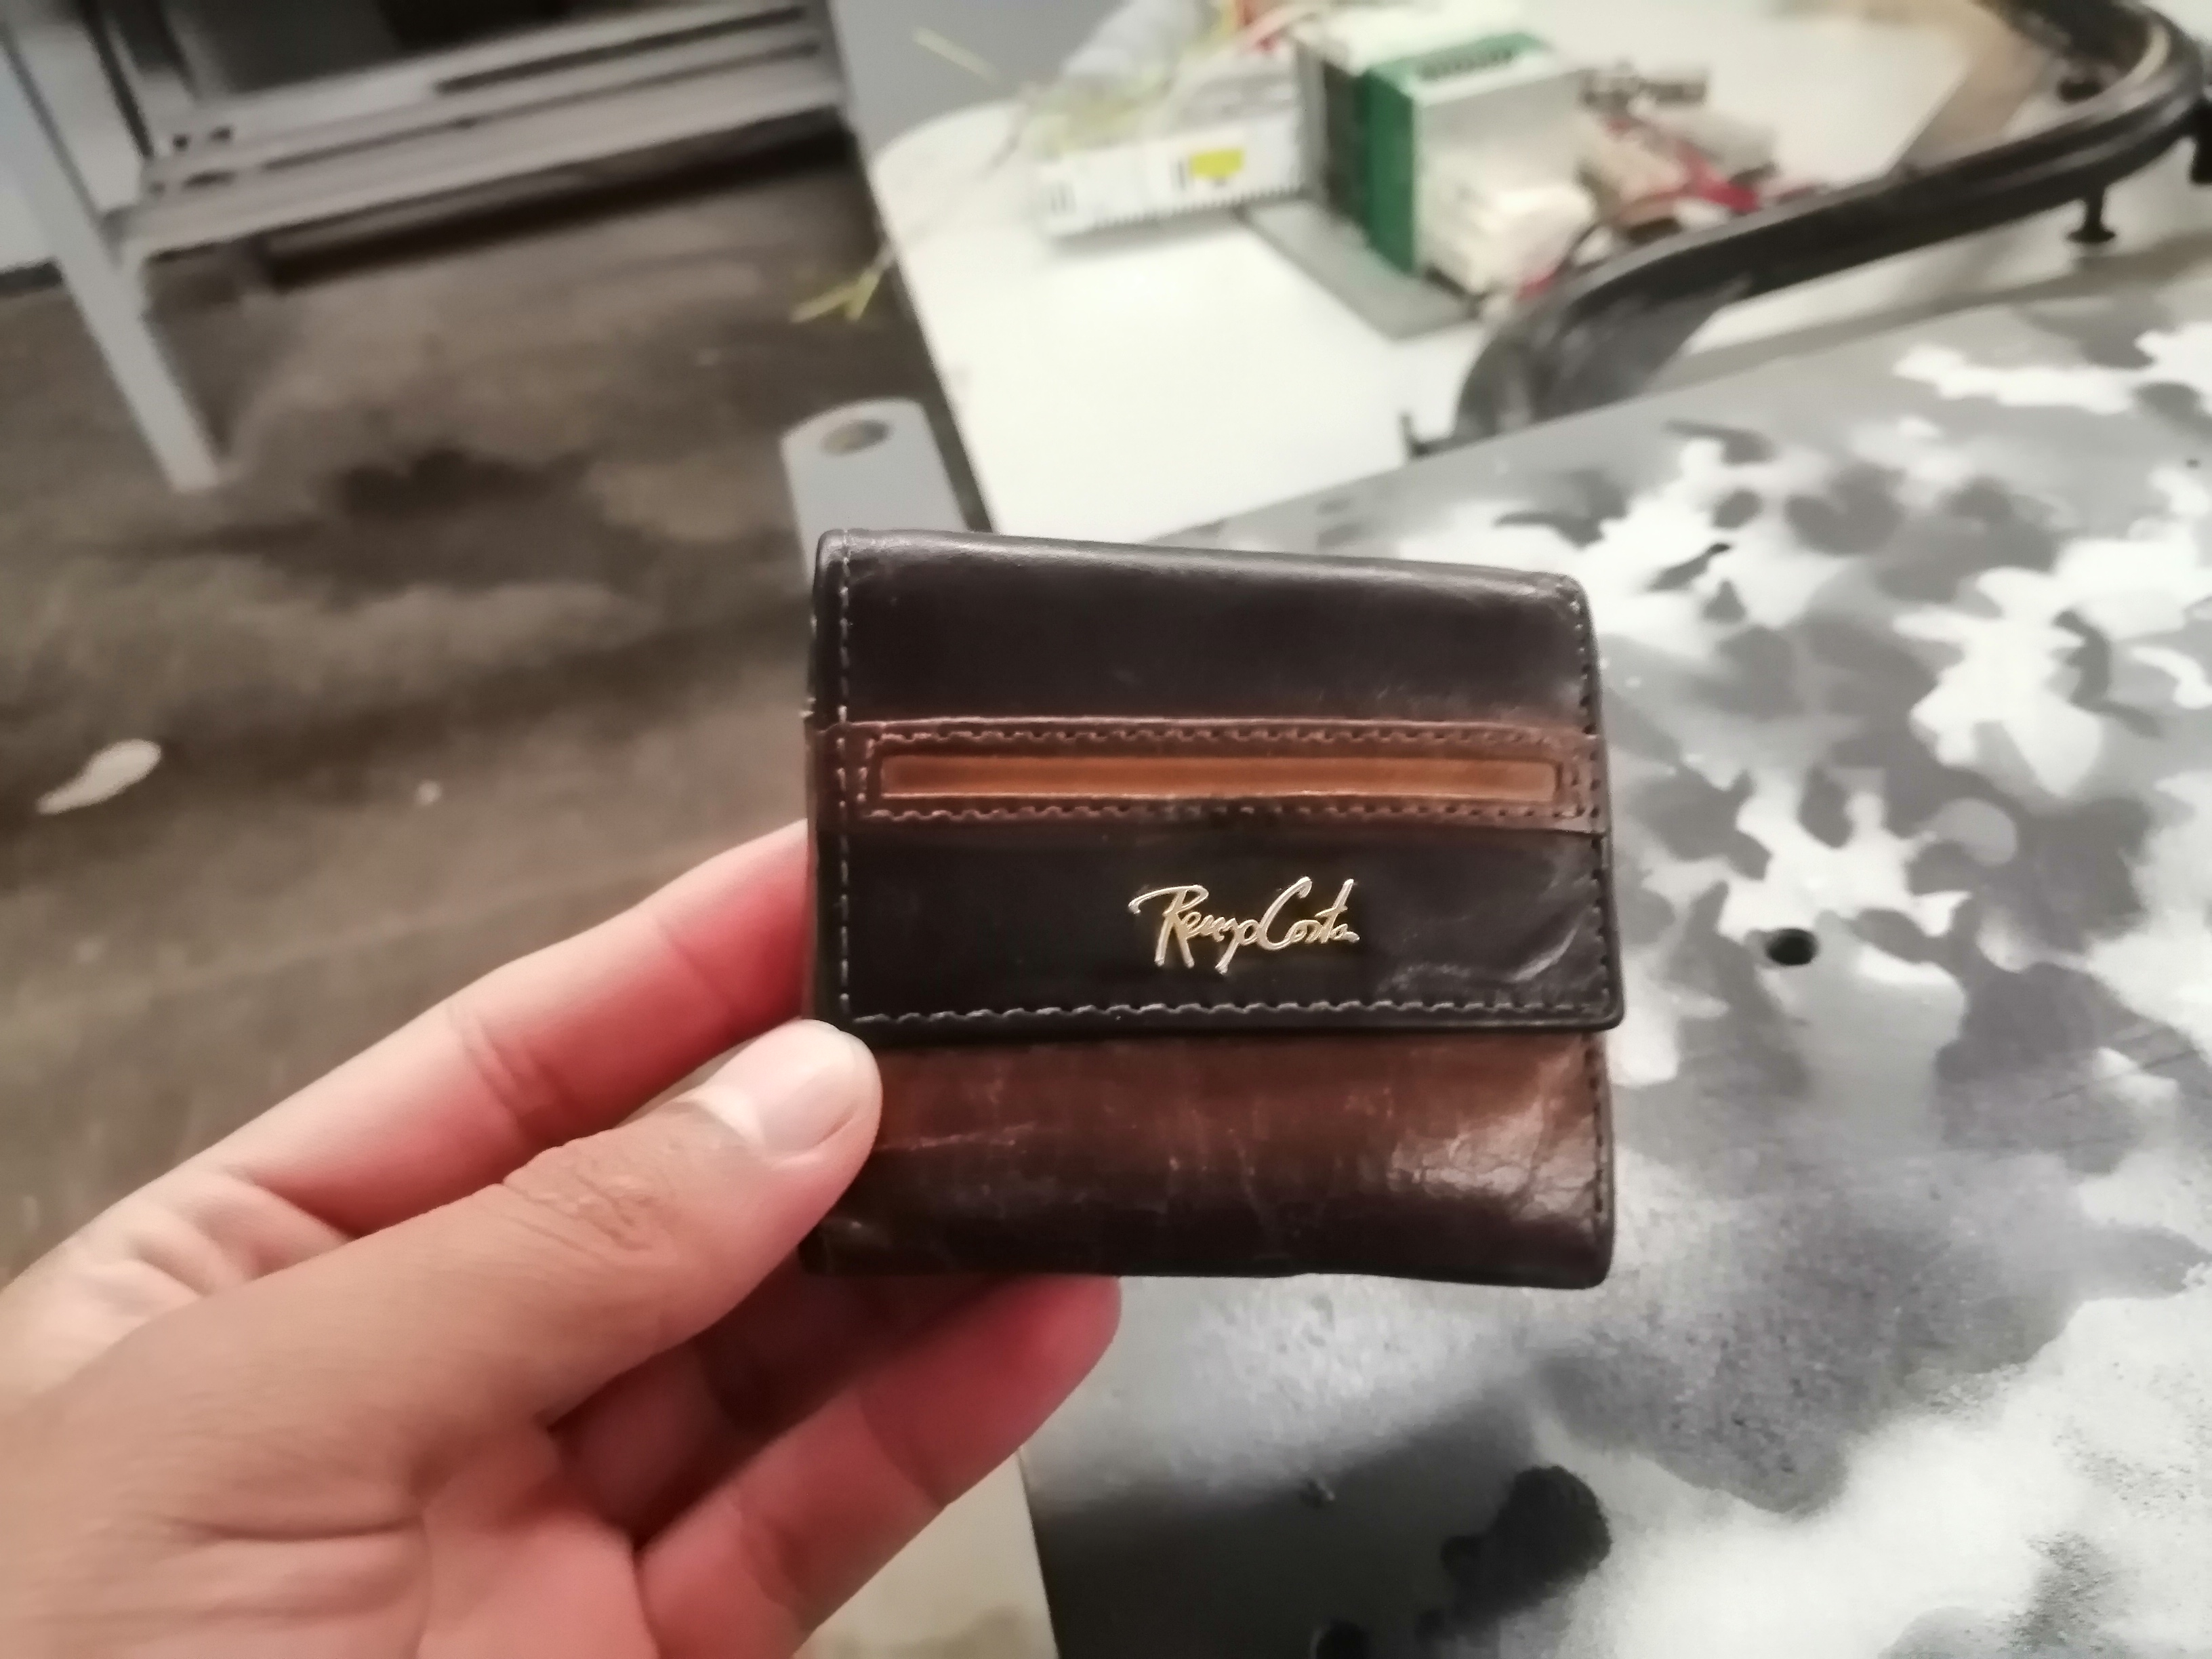monedero: (787, 504, 1637, 1298)
